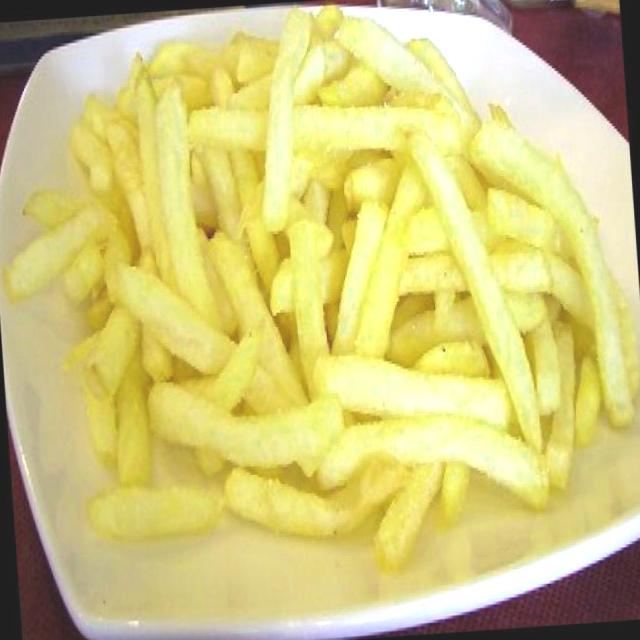French Fries: (20, 7, 637, 570)
